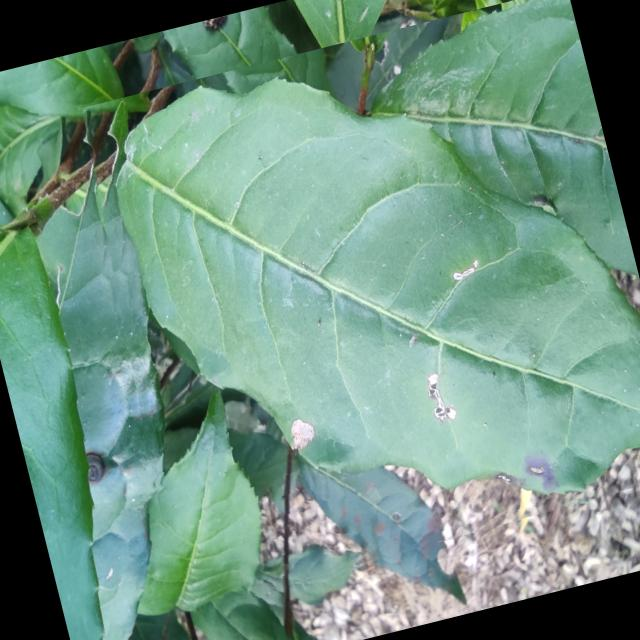Category D(7+ days, Not for Tea): (55, 0, 640, 613)
